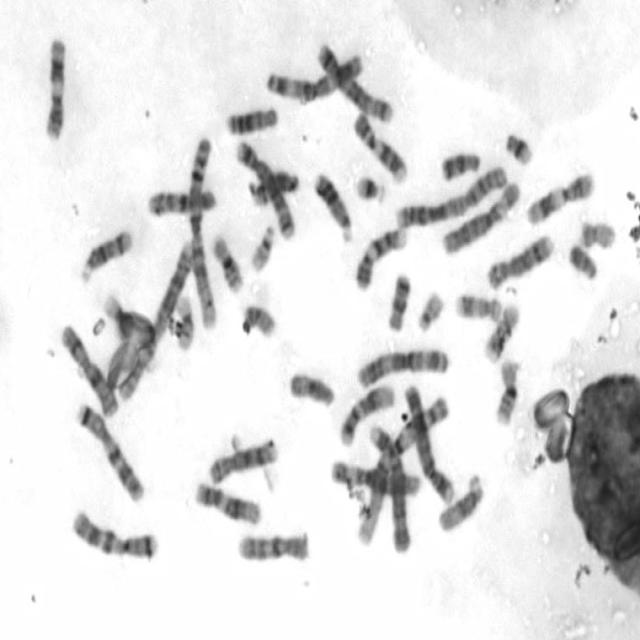A1: (353, 391, 450, 540), (185, 132, 219, 331)
A2: (114, 234, 196, 406), (392, 161, 508, 231)
A3: (263, 48, 364, 104), (354, 343, 452, 391)
B4: (366, 419, 415, 558), (402, 378, 454, 504)
B5: (232, 136, 296, 242), (315, 39, 394, 124)
C10: (234, 526, 310, 564), (145, 184, 218, 218)
C11: (522, 167, 596, 227), (40, 31, 69, 142)
C12: (337, 380, 396, 448), (191, 476, 263, 526)
C6: (439, 176, 522, 257), (327, 455, 422, 499)
C7: (73, 399, 146, 503), (68, 504, 159, 561)
C8: (483, 230, 556, 290), (206, 433, 280, 485)
C9: (351, 108, 409, 186), (352, 222, 408, 292)
D13: (311, 167, 354, 243), (222, 101, 279, 137)
D14: (77, 223, 134, 284), (248, 170, 300, 204)
D15: (435, 468, 485, 534), (286, 367, 337, 409)
E16: (209, 230, 244, 294), (492, 356, 520, 426)
E17: (478, 304, 523, 368), (452, 290, 504, 323)
E18: (385, 268, 412, 332), (437, 145, 482, 183)
F19: (101, 292, 147, 342), (173, 289, 195, 352)
F20: (575, 214, 617, 250), (243, 303, 276, 339)
G21: (501, 127, 535, 167), (352, 170, 387, 204)
G22: (248, 221, 276, 274), (414, 287, 446, 333)
X: (56, 320, 119, 420)
Y: (565, 239, 598, 282)
